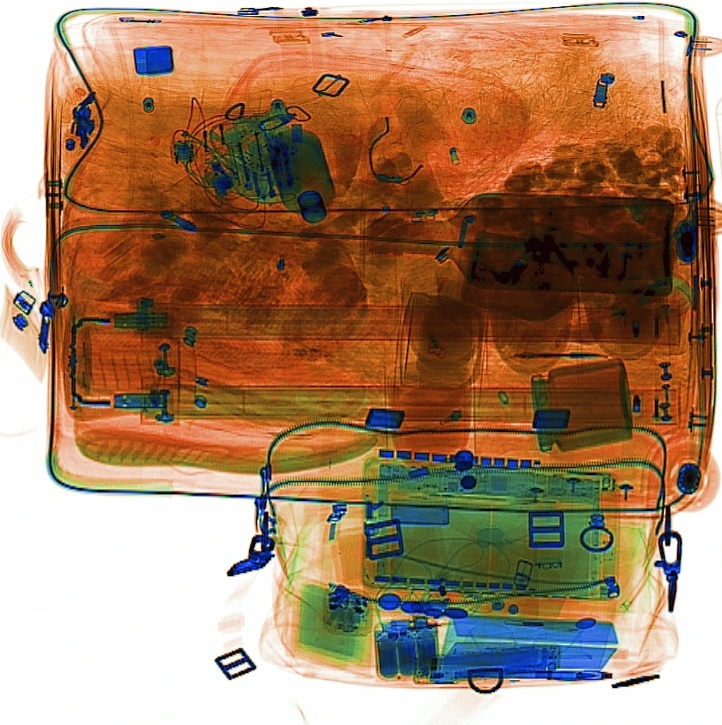powerbank: (368, 604, 444, 684)
